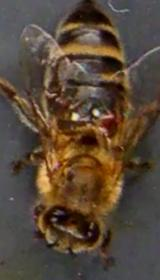varroa_mite: (96, 107, 120, 139)
